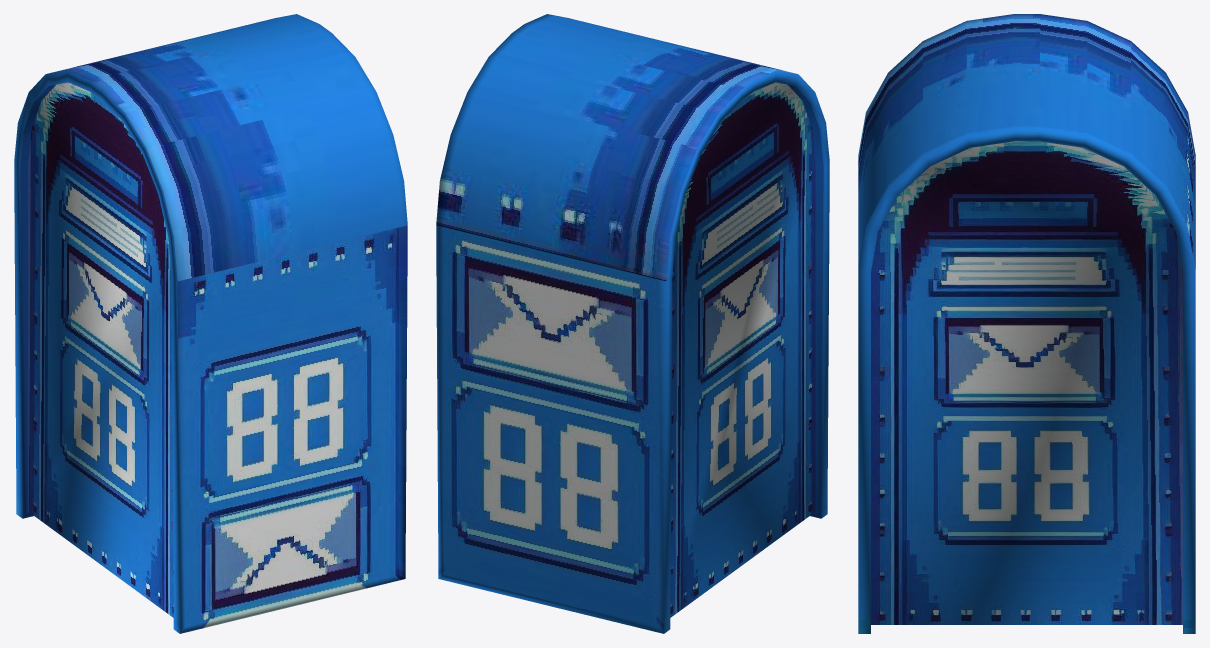
The model's file is mailbox.glb.
3 renders of one model, left to right at view 1: azimuth 30°, elevation 25°; view 2: azimuth 150°, elevation 25°; view 3: azimuth 270°, elevation 25°, orthographic. The views are drawn at different scales.
Visible parts, largest first — view 1: OIG2 (24); view 2: OIG2 (24); view 3: OIG2 (24).
Boxes of the visible parts, bbox=[...] form: OIG2 (24): bbox=[14, 14, 407, 633]; OIG2 (24): bbox=[436, 14, 829, 633]; OIG2 (24): bbox=[858, 14, 1195, 633].
Size of the model in its own units: 0.2877 by 0.5849 by 0.354.
Materials: 1 (1 with a texture image).
